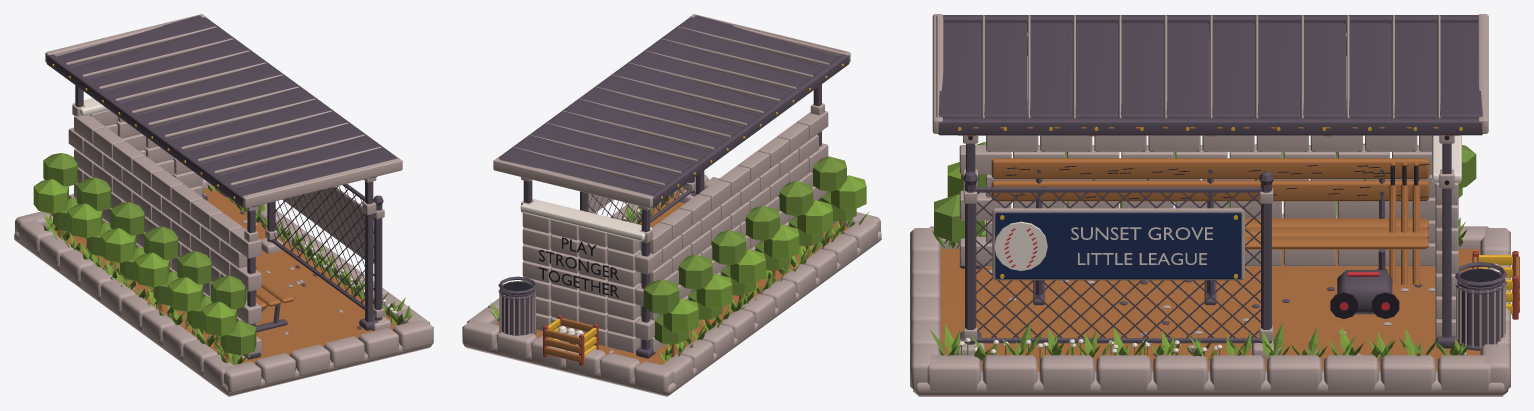
3 views of the same model, side by side, from view 1: azimuth 30°, elevation 25°; view 2: azimuth 150°, elevation 25°; view 3: azimuth 270°, elevation 25° (orthographic). The views are drawn at different scales.
Visible parts, largest first — view 1: shell_sidewalk, roof_asphalt, shell_grass, shell_woodWarm, roof_sidewalk, shell_foliage, shell_asphalt, interior_woodWarm, shell_picketWhite; view 2: shell_sidewalk, roof_asphalt, shell_grass, roof_sidewalk, shell_foliage, shell_asphalt, shell_woodWarm, shell_picketWhite, shell_uiDark, shell_brick, shell_schoolBusYellow; view 3: roof_asphalt, shell_sidewalk, shell_woodWarm, interior_woodWarm, shell_asphalt, shell_policeBlue, roof_sidewalk, shell_picketWhite, shell_grass, shell_foliage, interior_asphalt, interior_uiDark (+2 smaller).
Boxes of the visible parts, x1,y1,x2,y2 form: shell_sidewalk: [14, 104, 433, 396]; roof_asphalt: [46, 15, 397, 207]; shell_grass: [43, 153, 411, 365]; shell_woodWarm: [47, 187, 397, 364]; roof_sidewalk: [45, 14, 402, 208]; shell_foliage: [33, 179, 411, 363]; shell_asphalt: [75, 85, 383, 359]; interior_woodWarm: [255, 266, 294, 308]; shell_picketWhite: [72, 98, 397, 314]; shell_sidewalk: [462, 103, 881, 396]; roof_asphalt: [498, 15, 849, 207]; shell_grass: [489, 156, 856, 360]; roof_sidewalk: [493, 14, 850, 208]; shell_foliage: [490, 175, 868, 362]; shell_asphalt: [498, 84, 821, 358]; shell_woodWarm: [496, 187, 848, 365]; shell_picketWhite: [520, 195, 670, 336]; shell_uiDark: [503, 237, 618, 297]; shell_brick: [543, 314, 598, 366]; shell_schoolBusYellow: [548, 318, 596, 360]; roof_asphalt: [938, 15, 1483, 135]; shell_sidewalk: [910, 99, 1510, 396]; shell_woodWarm: [940, 249, 1519, 371]; interior_woodWarm: [991, 158, 1429, 284]; shell_asphalt: [959, 143, 1506, 360]; shell_policeBlue: [995, 212, 1241, 278]; roof_sidewalk: [932, 14, 1488, 133]; shell_picketWhite: [958, 135, 1500, 353]; shell_grass: [929, 142, 1476, 361]; shell_foliage: [932, 162, 1467, 360]; interior_asphalt: [1033, 169, 1392, 314]; interior_uiDark: [1006, 164, 1429, 318].
Size of the model in its own units: 3.74 by 3.23 by 6.76.
